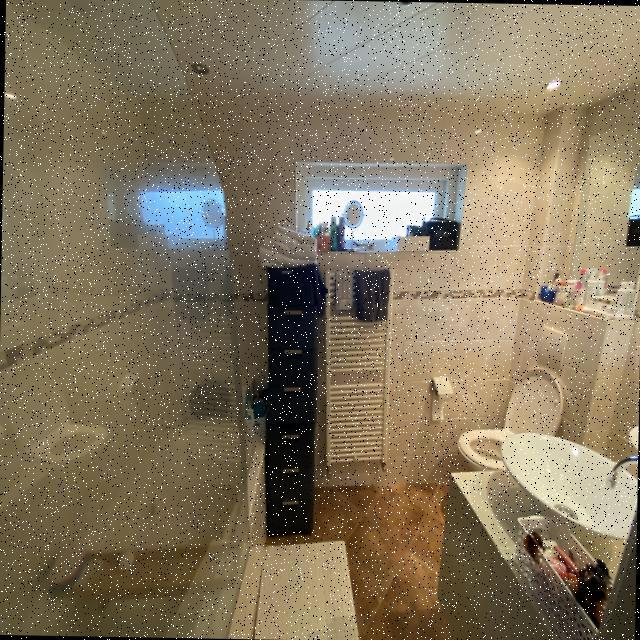bath: (0, 406, 264, 639)
designradiator: (320, 264, 394, 480)
toilet: (456, 324, 574, 476)
wastafel: (435, 469, 637, 640), (498, 431, 638, 538)
